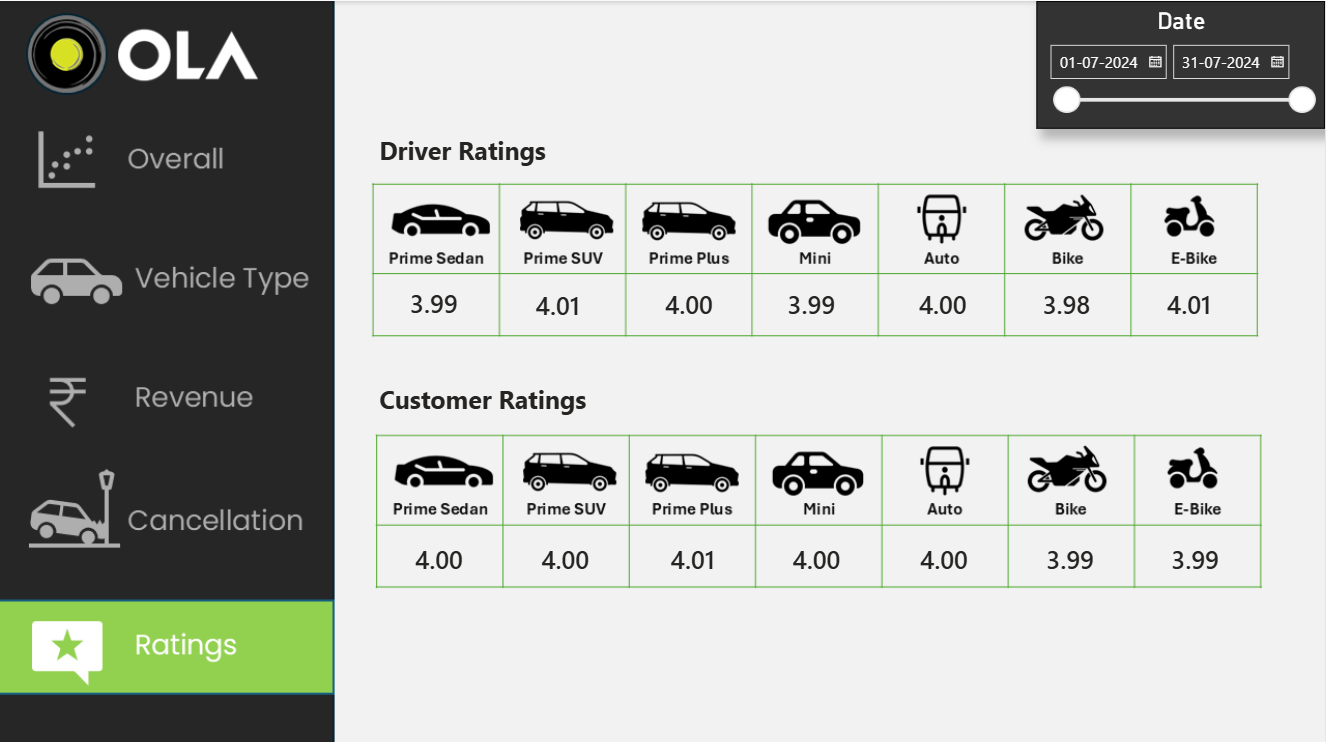

The page's visual inventory and layout, read from the dashboard file:
{"tool":"powerbi","page":{"name":"Ratings","canvas":[1280,720],"ordinal":4},"visuals":[{"type":"actionButton","box":[0,340,324.4,92.2],"z":0},{"type":"actionButton","box":[0,445,325,92.5],"z":1000},{"type":"actionButton","box":[0,107.5,325,92.5],"z":2000},{"type":"actionButton","box":[0,220,324.4,92.2],"z":3000},{"type":"cardVisual","fields":{"Data":["Avg(July.Driver_Ratings)"]},"box":[361.2,258.8,118.8,65],"z":4000},{"type":"cardVisual","fields":{"Data":["Avg(July.Driver_Ratings)"]},"box":[480,260,118.9,64.4],"z":5000},{"type":"cardVisual","fields":{"Data":["Avg(July.Driver_Ratings)"]},"box":[606.7,258.9,118.9,64.4],"z":6000},{"type":"cardVisual","fields":{"Data":["Avg(July.Driver_Ratings)"]},"box":[725.6,258.9,118.9,64.4],"z":7000},{"type":"cardVisual","fields":{"Data":["Avg(July.Driver_Ratings)"]},"box":[852.2,258.9,118.9,64.4],"z":8000},{"type":"cardVisual","fields":{"Data":["Avg(July.Driver_Ratings)"]},"box":[971.1,258.9,118.9,64.4],"z":9000},{"type":"cardVisual","fields":{"Data":["Avg(July.Driver_Ratings)"]},"box":[1090,258.9,118.9,64.4],"z":10000},{"type":"cardVisual","fields":{"Data":["Avg(July.Customer_Rating)"]},"box":[365.6,505.6,118.9,64.4],"z":11000},{"type":"cardVisual","fields":{"Data":["Avg(July.Customer_Rating)"]},"box":[487.8,505.6,118.9,64.4],"z":12000},{"type":"cardVisual","fields":{"Data":["Avg(July.Customer_Rating)"]},"box":[610,505.6,118.9,64.4],"z":13000},{"type":"cardVisual","fields":{"Data":["Avg(July.Customer_Rating)"]},"box":[730,505.6,118.9,64.4],"z":14000},{"type":"cardVisual","fields":{"Data":["Avg(July.Customer_Rating)"]},"box":[853.3,505.6,118.9,64.4],"z":15000},{"type":"cardVisual","fields":{"Data":["Avg(July.Customer_Rating)"]},"box":[974.4,505.6,118.9,64.4],"z":16000},{"type":"cardVisual","fields":{"Data":["Avg(July.Customer_Rating)"]},"box":[1095.6,505.6,118.9,64.4],"z":17000},{"type":"slicer","title":"Date","fields":{"Values":["July.Date"]},"box":[1001.7,0,278.3,123.3],"z":18000},{"type":"textbox","box":[361.7,123.3,185,46.7],"z":19000},{"type":"textbox","box":[361.7,363.3,215,46.7],"z":19001}]}

Visuals, with their boxes in screenshot pixels (x1, y1, x2, y2), scaled from the page's 1280x720 canvas onto the 1326x742 screenshot:
actionButton: bbox=(0, 350, 336, 445)
actionButton: bbox=(0, 459, 337, 554)
actionButton: bbox=(0, 111, 337, 206)
actionButton: bbox=(0, 227, 336, 322)
cardVisual - Avg(July.Driver_Ratings): bbox=(374, 267, 497, 334)
cardVisual - Avg(July.Driver_Ratings): bbox=(497, 268, 620, 334)
cardVisual - Avg(July.Driver_Ratings): bbox=(629, 267, 752, 333)
cardVisual - Avg(July.Driver_Ratings): bbox=(752, 267, 875, 333)
cardVisual - Avg(July.Driver_Ratings): bbox=(883, 267, 1006, 333)
cardVisual - Avg(July.Driver_Ratings): bbox=(1006, 267, 1129, 333)
cardVisual - Avg(July.Driver_Ratings): bbox=(1129, 267, 1252, 333)
cardVisual - Avg(July.Customer_Rating): bbox=(379, 521, 502, 587)
cardVisual - Avg(July.Customer_Rating): bbox=(505, 521, 629, 587)
cardVisual - Avg(July.Customer_Rating): bbox=(632, 521, 755, 587)
cardVisual - Avg(July.Customer_Rating): bbox=(756, 521, 879, 587)
cardVisual - Avg(July.Customer_Rating): bbox=(884, 521, 1007, 587)
cardVisual - Avg(July.Customer_Rating): bbox=(1009, 521, 1133, 587)
cardVisual - Avg(July.Customer_Rating): bbox=(1135, 521, 1258, 587)
"Date" slicer: bbox=(1038, 0, 1325, 127)
textbox: bbox=(375, 127, 566, 175)
textbox: bbox=(375, 374, 597, 423)
